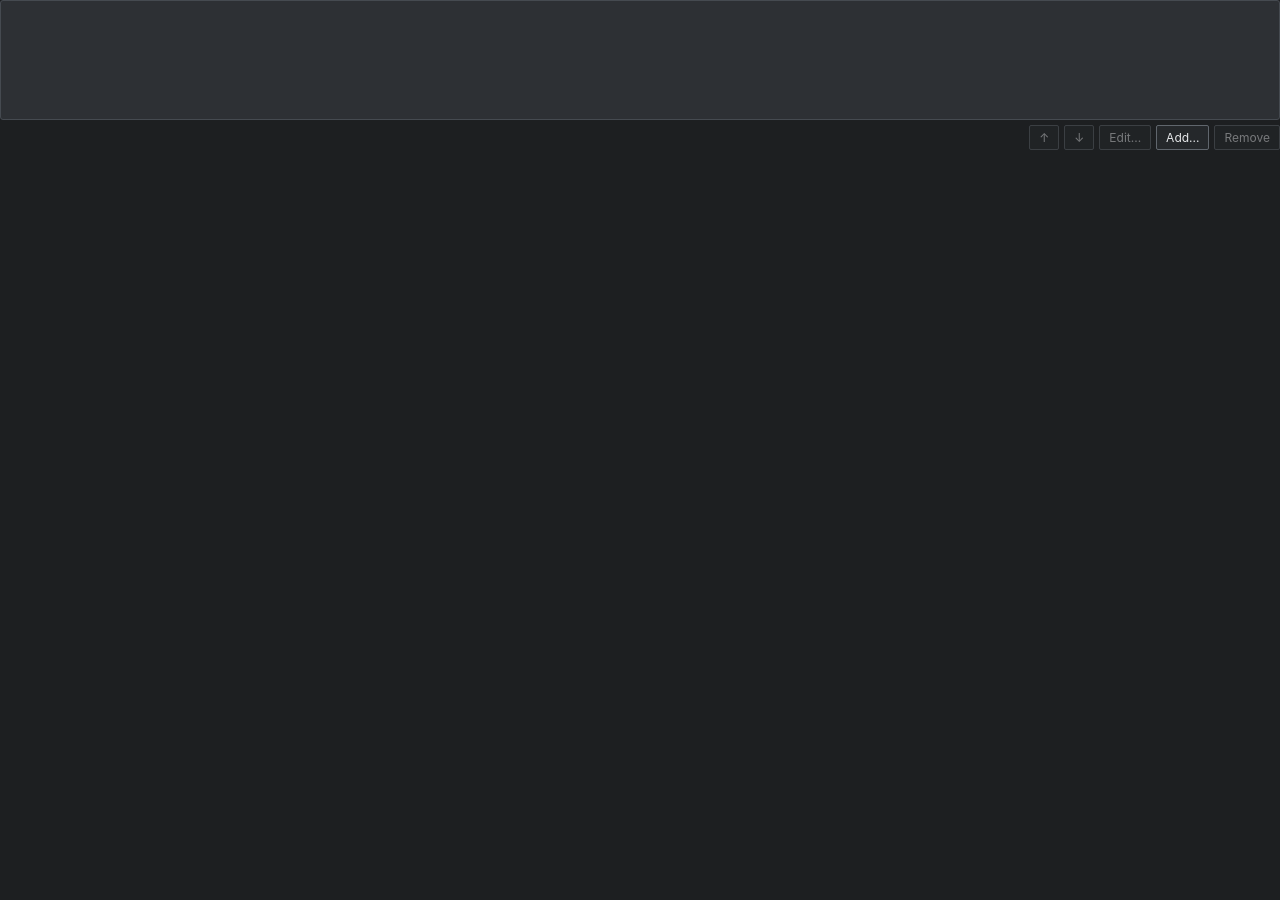
Test: MethodOverrideListEditor › goes straight to the method picker, since an override is the method it names
Click the button "Add..." at (1183,138), box [1156,125,1210,150]
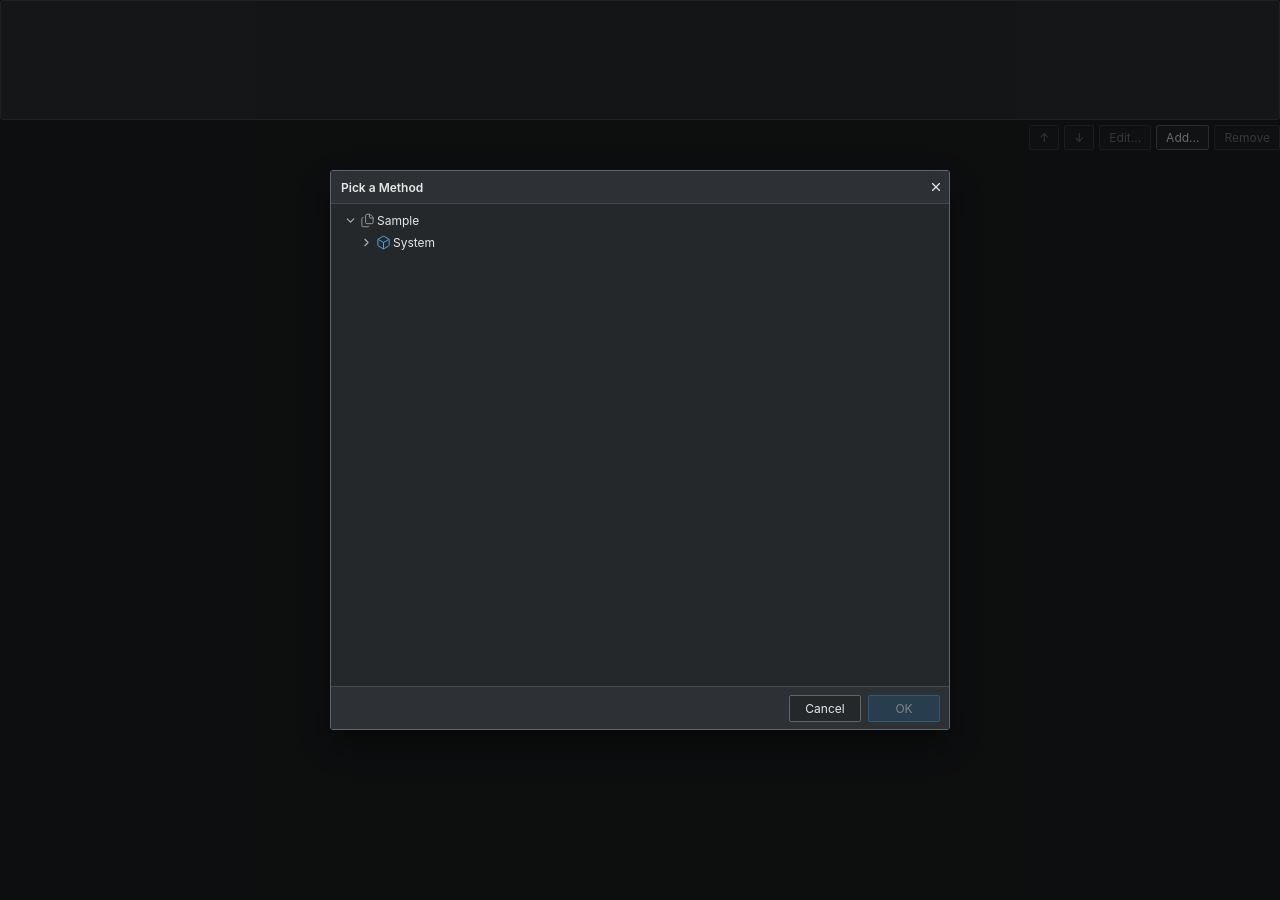
Expected: the dialog "Pick a Method" is shown, [330,170,950,730]
